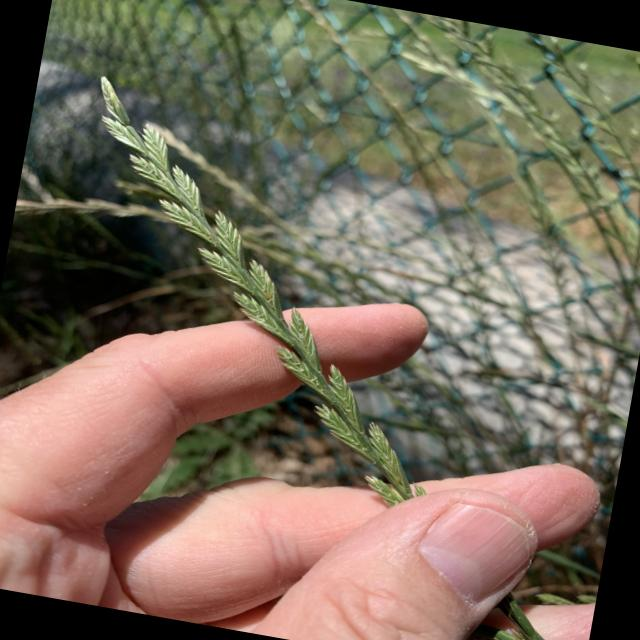Lolium: (4, 72, 640, 640), (380, 14, 640, 283), (354, 8, 595, 248), (504, 31, 640, 195)
